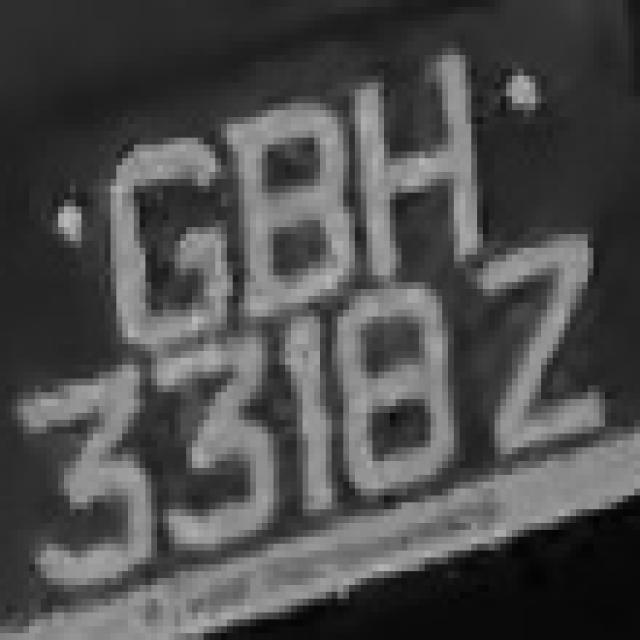1: (274, 268, 332, 537)
3: (17, 351, 163, 599), (152, 330, 274, 550)
8: (326, 268, 460, 510)
B: (215, 83, 349, 344)
G: (93, 124, 233, 365)
H: (338, 48, 500, 296)
Z: (460, 234, 622, 468)
